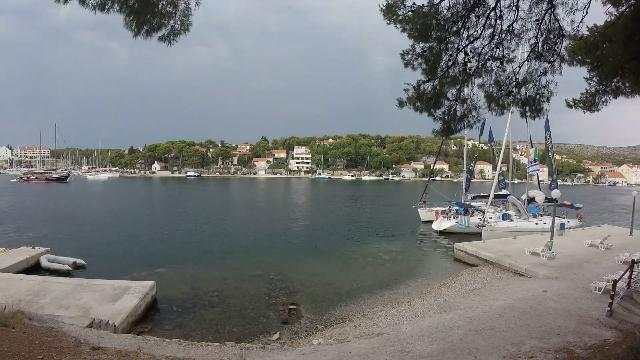Freighter: (15, 166, 76, 184)
Sailboat: (84, 167, 110, 181)
